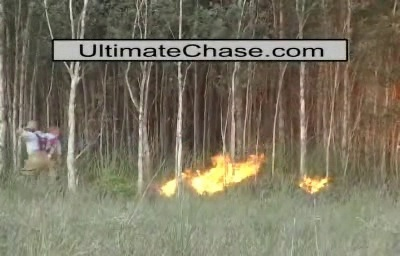fire: (156, 148, 268, 196), (295, 171, 333, 195)
